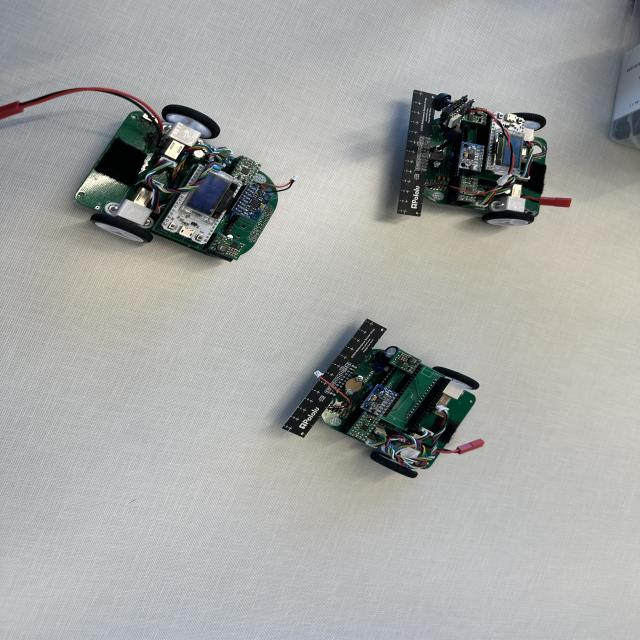robot: (1, 86, 297, 263), (281, 318, 485, 478), (395, 90, 572, 227)
